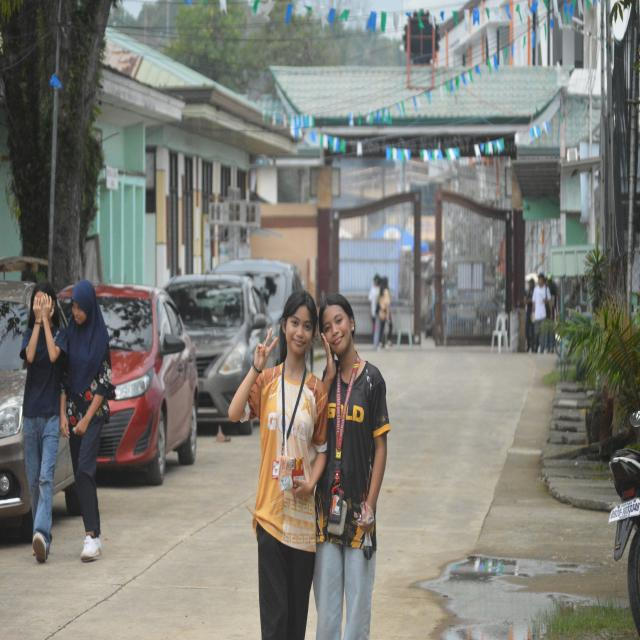person: (229, 292, 327, 639), (314, 294, 390, 639), (60, 280, 114, 561), (20, 281, 66, 562), (533, 274, 550, 352), (525, 279, 535, 351), (369, 274, 380, 335)
